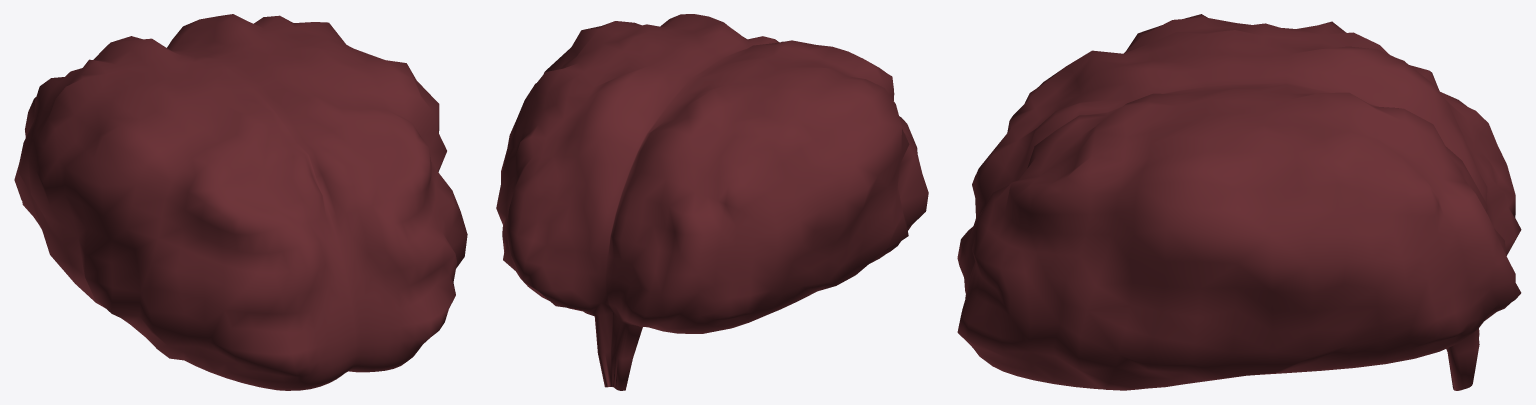
Rendered from brain.fbx.
3 renders of one model, left to right at view 1: azimuth 30°, elevation 25°; view 2: azimuth 150°, elevation 25°; view 3: azimuth 270°, elevation 25°, orthographic. The views are drawn at different scales.
Parts seen in each view (by area): view 1: brain; view 2: brain; view 3: brain.
Boxes of the visible parts, <box> form: brain: <box>14,14,467,390</box>; brain: <box>496,14,928,390</box>; brain: <box>957,14,1521,390</box>.
Size of the model in its own units: 0.1981 by 0.2366 by 0.1463.
